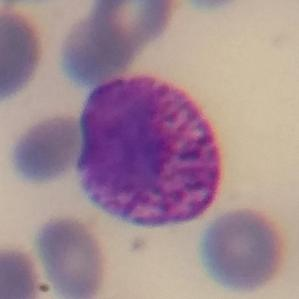Neutrophil: (70, 70, 225, 226)
RBC: (195, 204, 291, 296), (32, 213, 110, 299), (56, 7, 138, 88), (5, 113, 85, 186), (0, 7, 49, 103), (87, 0, 178, 50), (0, 243, 47, 299), (183, 0, 244, 10)
